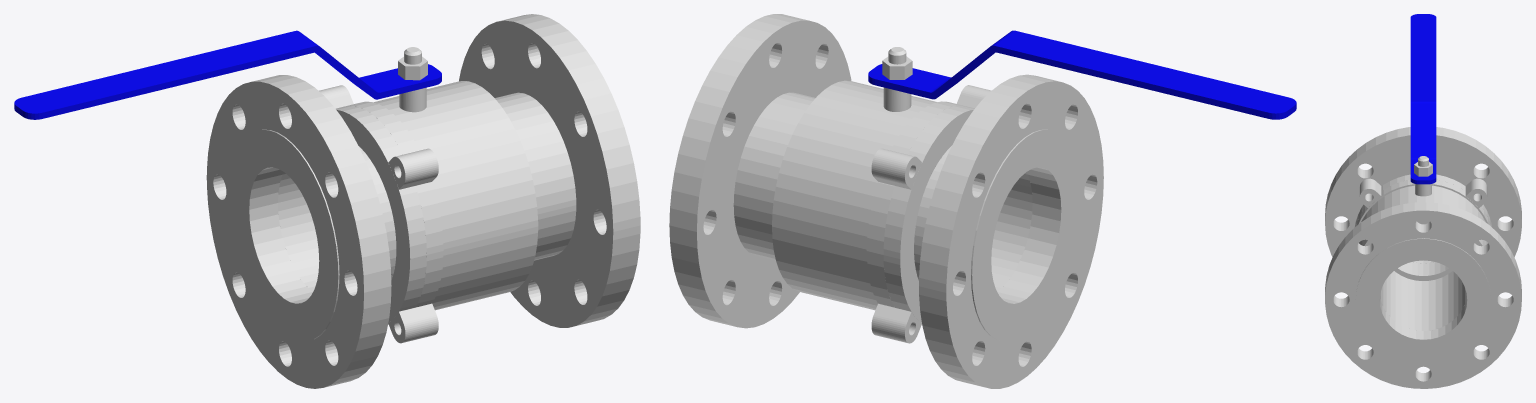
The model's file is ballvalve.fbx.
The picture shows the model from 3 angles, left to right: view 1: azimuth 30°, elevation 25°; view 2: azimuth 150°, elevation 25°; view 3: azimuth 270°, elevation 25°; orthographic projection. The views are drawn at different scales.
Visible parts, largest first — view 1: Shape_IndexedFaceSet.016, Shape_IndexedFaceSet.002, Shape_IndexedFaceSet.001, Shape_IndexedFaceSet.015, Shape_IndexedFaceSet.010, Shape_IndexedFaceSet.009, Shape_IndexedFaceSet.012, Shape_IndexedFaceSet.013, Shape_IndexedFaceSet.003, Shape_IndexedFaceSet.007, Shape_IndexedFaceSet.006, Shape_IndexedFaceSet.024; view 2: Shape_IndexedFaceSet.016, Shape_IndexedFaceSet.002, Shape_IndexedFaceSet.001, Shape_IndexedFaceSet.015, Shape_IndexedFaceSet.010, Shape_IndexedFaceSet.009, Shape_IndexedFaceSet.011, Shape_IndexedFaceSet.014, Shape_IndexedFaceSet.004, Shape_IndexedFaceSet.007, Shape_IndexedFaceSet.005, Shape_IndexedFaceSet.024; view 3: Shape_IndexedFaceSet.001, Shape_IndexedFaceSet.016, Shape_IndexedFaceSet.002, Shape_IndexedFaceSet.015, Shape_IndexedFaceSet.009, Shape_IndexedFaceSet.010, Shape_IndexedFaceSet.003, Shape_IndexedFaceSet.004, Shape_IndexedFaceSet.024, Shape_IndexedFaceSet.007.
Part boxes in pixels (bbox=[...]): Shape_IndexedFaceSet.016: bbox=[206, 75, 391, 388]; Shape_IndexedFaceSet.002: bbox=[349, 81, 576, 310]; Shape_IndexedFaceSet.001: bbox=[459, 14, 640, 327]; Shape_IndexedFaceSet.015: bbox=[14, 30, 441, 119]; Shape_IndexedFaceSet.010: bbox=[336, 105, 426, 324]; Shape_IndexedFaceSet.009: bbox=[278, 146, 396, 291]; Shape_IndexedFaceSet.012: bbox=[388, 152, 421, 189]; Shape_IndexedFaceSet.013: bbox=[388, 307, 421, 343]; Shape_IndexedFaceSet.003: bbox=[412, 148, 438, 185]; Shape_IndexedFaceSet.007: bbox=[399, 87, 426, 112]; Shape_IndexedFaceSet.006: bbox=[416, 303, 438, 338]; Shape_IndexedFaceSet.024: bbox=[398, 56, 427, 80]; Shape_IndexedFaceSet.016: bbox=[919, 74, 1103, 388]; Shape_IndexedFaceSet.002: bbox=[733, 80, 963, 310]; Shape_IndexedFaceSet.001: bbox=[669, 14, 851, 328]; Shape_IndexedFaceSet.015: bbox=[868, 30, 1296, 119]; Shape_IndexedFaceSet.010: bbox=[883, 105, 974, 322]; Shape_IndexedFaceSet.009: bbox=[914, 146, 1032, 291]; Shape_IndexedFaceSet.011: bbox=[888, 152, 921, 189]; Shape_IndexedFaceSet.014: bbox=[888, 308, 921, 343]; Shape_IndexedFaceSet.004: bbox=[871, 148, 897, 185]; Shape_IndexedFaceSet.007: bbox=[883, 87, 911, 111]; Shape_IndexedFaceSet.005: bbox=[871, 303, 894, 338]; Shape_IndexedFaceSet.024: bbox=[882, 56, 912, 79]; Shape_IndexedFaceSet.001: bbox=[1325, 202, 1521, 388]; Shape_IndexedFaceSet.016: bbox=[1325, 127, 1521, 263]; Shape_IndexedFaceSet.002: bbox=[1356, 179, 1490, 330]; Shape_IndexedFaceSet.015: bbox=[1410, 14, 1436, 184]; Shape_IndexedFaceSet.009: bbox=[1394, 262, 1452, 280]; Shape_IndexedFaceSet.010: bbox=[1354, 174, 1492, 227]; Shape_IndexedFaceSet.003: bbox=[1359, 183, 1381, 207]; Shape_IndexedFaceSet.004: bbox=[1465, 183, 1487, 207]; Shape_IndexedFaceSet.024: bbox=[1414, 162, 1432, 176]; Shape_IndexedFaceSet.007: bbox=[1415, 184, 1431, 196].
Size of the model in its own units: 45.6 by 26.8 by 22.86.
